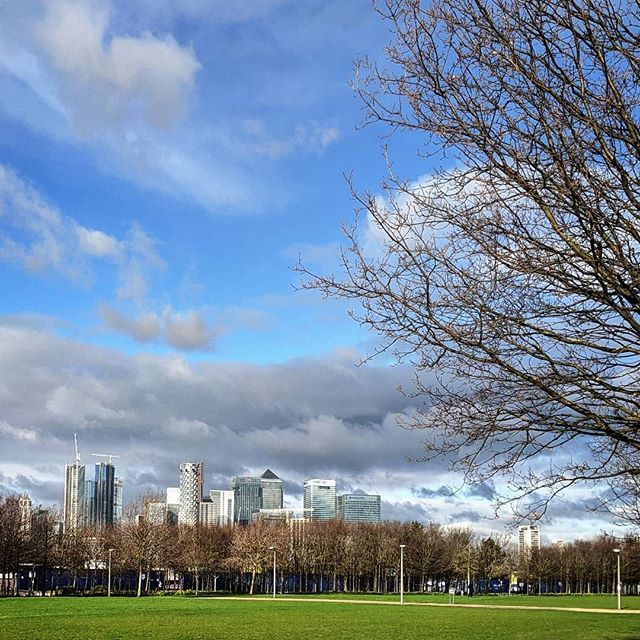building: (63, 462, 117, 547), (204, 472, 255, 530), (173, 453, 203, 547), (339, 478, 384, 528), (298, 477, 341, 525), (128, 489, 173, 527), (255, 471, 281, 524)
grass: (1, 594, 637, 640)
sky: (1, 1, 629, 418)
tree: (348, 10, 640, 476)
vegetation: (8, 520, 634, 580)
